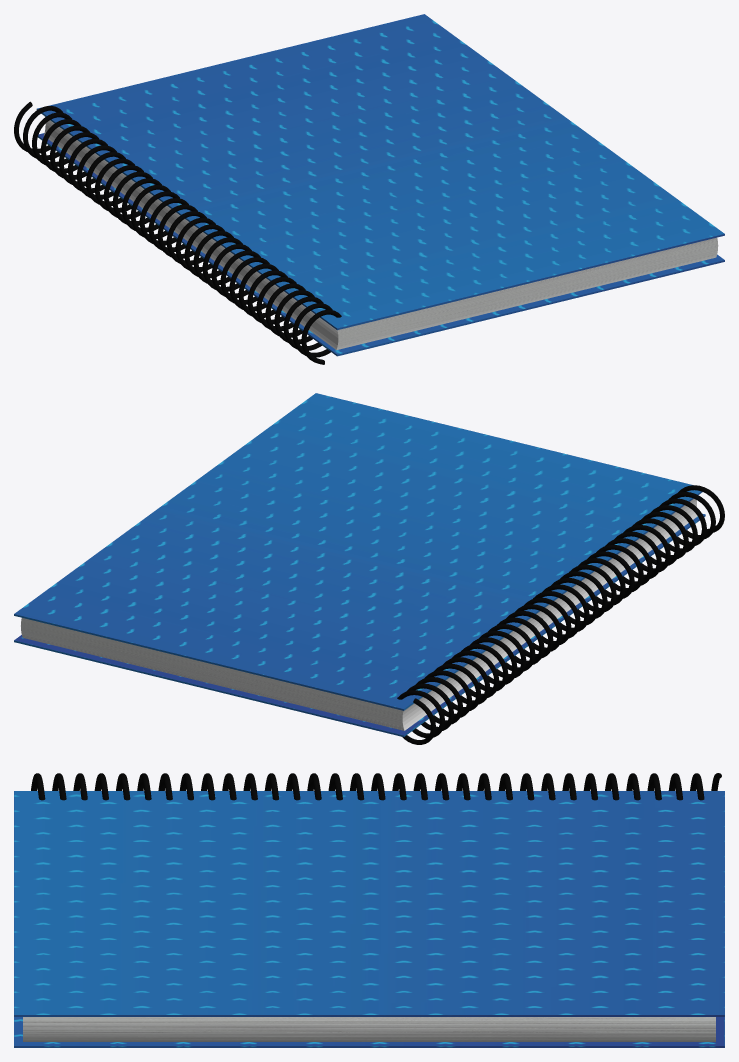
File: SpiralNoteBookBlue.fbx
3 renders of one model, top to bottom at view 1: azimuth 30°, elevation 25°; view 2: azimuth 150°, elevation 25°; view 3: azimuth 270°, elevation 25°, orthographic. The views are drawn at different scales.
Parts seen in each view (by area): view 1: Cover, Ring, Paper, Note; view 2: Cover, Ring, Paper, Note; view 3: Cover, Paper, Ring.
Part boxes in pixels (bbox=[...]): Cover: bbox=[36, 14, 724, 356]; Ring: bbox=[14, 101, 341, 364]; Paper: bbox=[336, 237, 718, 349]; Note: bbox=[43, 116, 338, 349]; Cover: bbox=[14, 393, 705, 737]; Ring: bbox=[397, 485, 724, 744]; Paper: bbox=[21, 618, 404, 730]; Note: bbox=[402, 499, 697, 730]; Cover: bbox=[14, 791, 724, 1047]; Paper: bbox=[23, 1017, 715, 1041]; Ring: bbox=[31, 773, 721, 800].
Size of the model in its own units: 47.83 by 5.5 by 60.
3 materials, 2 textured.
